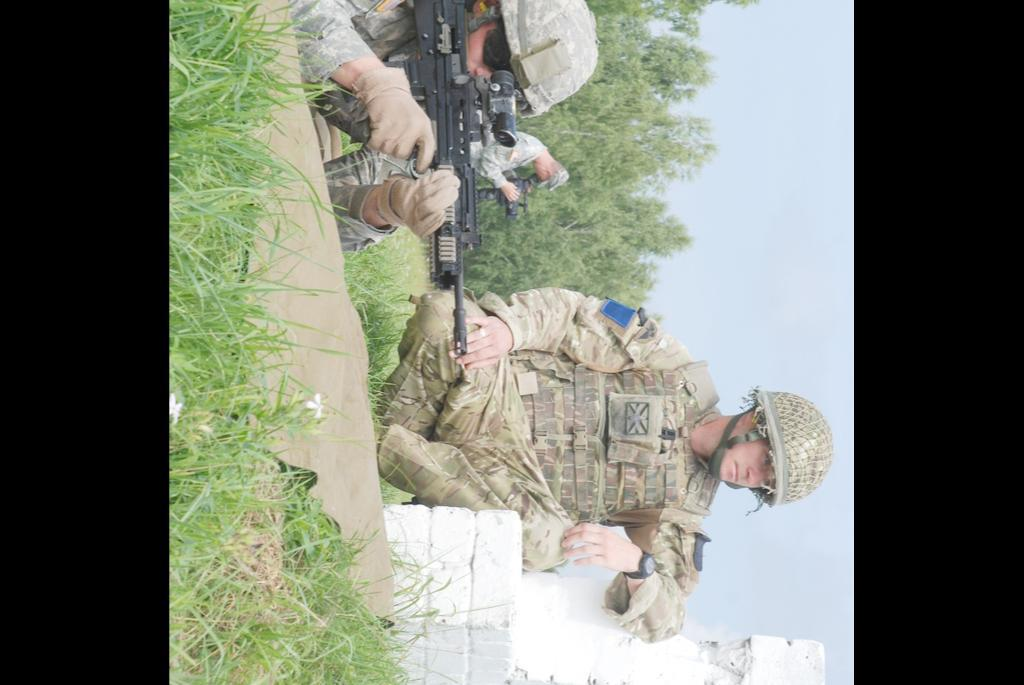gun: (324, 0, 516, 377)
